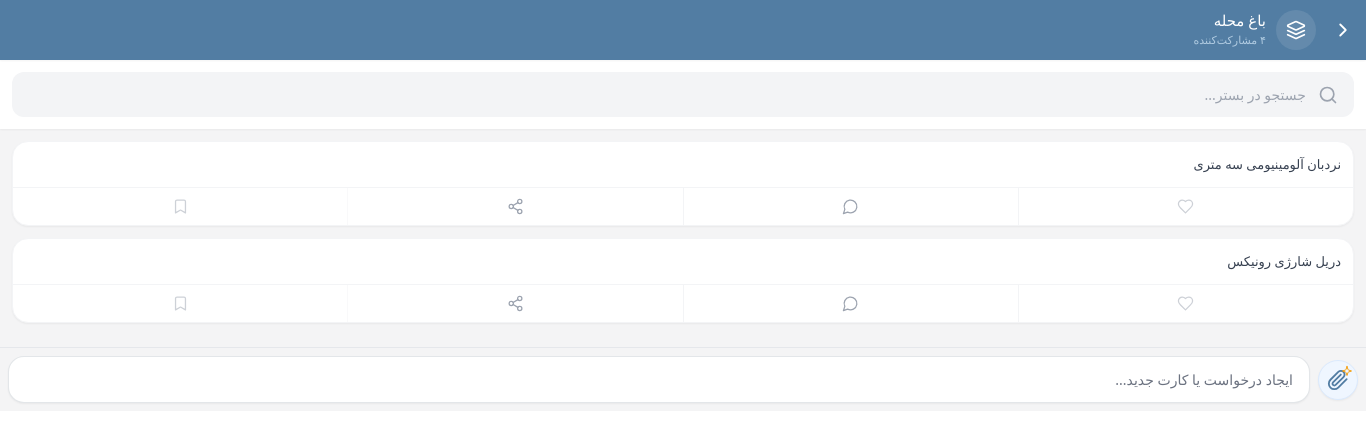
Test: SpacePage: a space looks like a conversation › searches inside the space rather than across other spaces
expect the text "نردبان آلومینیومی سه متری" is shown: met, box x1=1194 y1=155 x2=1341 y2=173
Type "دریل" into the field labelled "جستجو در بستر" at (683, 94), box x1=12 y1=72 x2=1354 y2=117
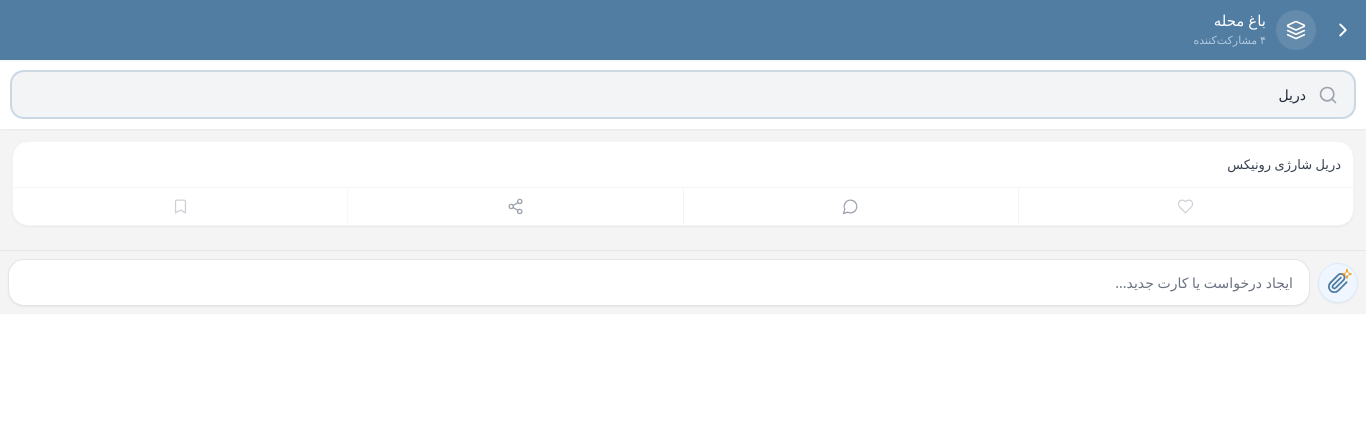
expect the text "دریل شارژی رونیکس" is shown: met, box x1=1227 y1=155 x2=1341 y2=173
expect the link "نردبان آلومینیومی سه متری" is gone: met
